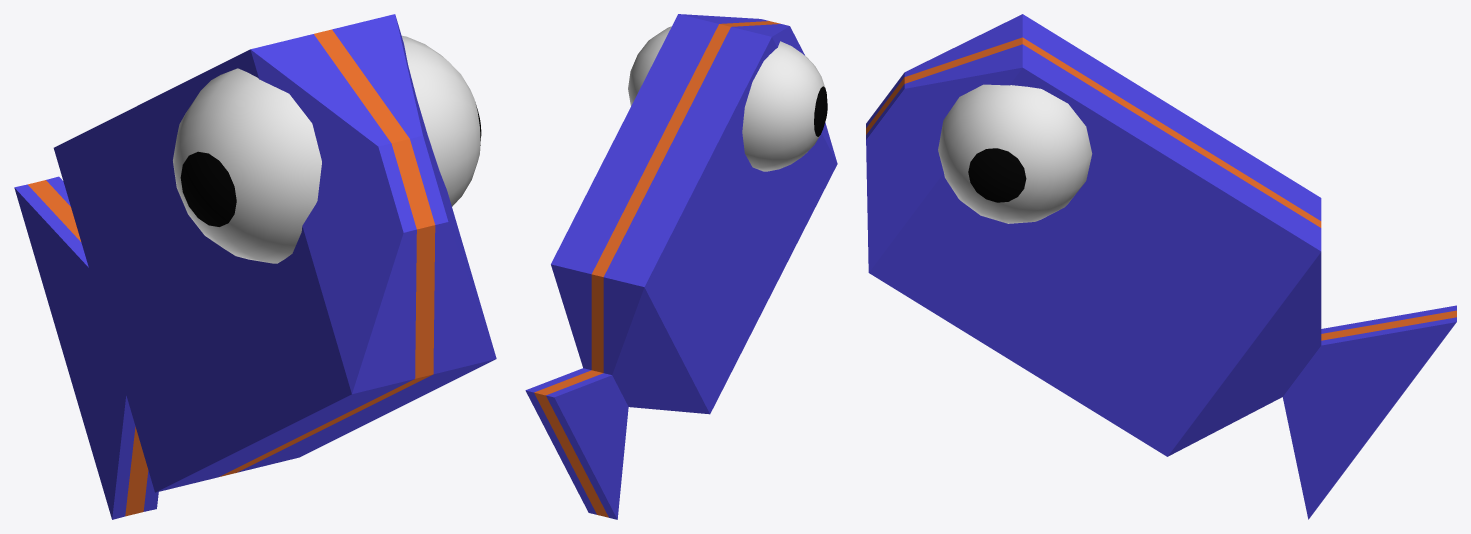
The model's file is Fish.fbx.
3 renders of one model, left to right at view 1: azimuth 30°, elevation 25°; view 2: azimuth 150°, elevation 25°; view 3: azimuth 270°, elevation 25°, orthographic. The views are drawn at different scales.
Parts seen in each view (by area): view 1: Fish; view 2: Fish; view 3: Fish.
Boxes of the visible parts, bbox=[...] form: Fish: bbox=[14, 14, 496, 519]; Fish: bbox=[525, 14, 837, 519]; Fish: bbox=[866, 14, 1456, 519].
Bounding box in the file's own units: 1.79 × 4.31 × 3.79.
